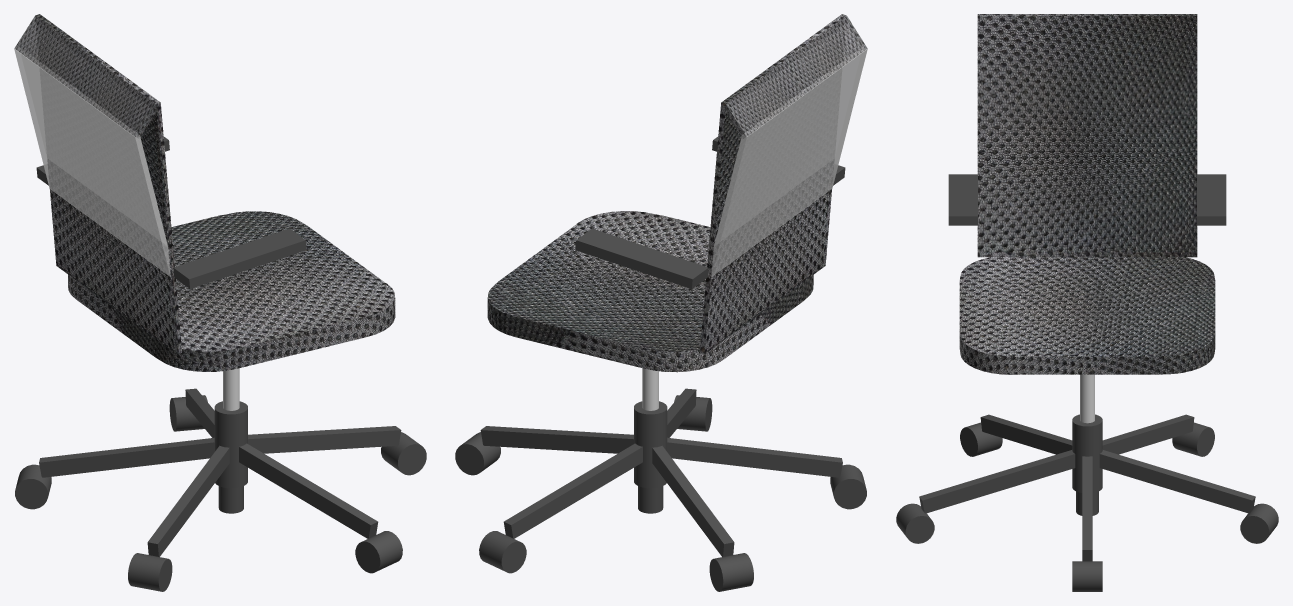
The model's file is office_chair.dae.
3 renders of one model, left to right at view 1: azimuth 30°, elevation 25°; view 2: azimuth 150°, elevation 25°; view 3: azimuth 270°, elevation 25°, orthographic. The views are drawn at different scales.
Visible parts, largest first — view 1: Seat_001, Backrest_001, Backrest_2_001, Backrest_1_001, Joint_3_001, Armrest_right_001, Joint_1_001, Joint_001, Joint_2_001, Middle_pole_001, Caster_1_001, Caster_2_001 (+6 smaller); view 2: Seat_001, Backrest_001, Backrest_2_001, Backrest_1_001, Joint_2_001, Armrest_left_001, Joint_4_001, Joint_001, Joint_3_001, Middle_pole_001, Caster_4_001, Caster_3_001 (+6 smaller); view 3: Backrest_001, Seat_001, Joint_1_001, Joint_4_001, Middle_pole_001, Joint_3_001, Joint_2_001, Armrest_left_001, Armrest_right_001, Joint_001, Caster_1_001, Caster_4_001 (+4 smaller).
Boxes of the visible parts, x1=… form: Seat_001: x1=68, y1=211, x2=395, y2=371; Backrest_001: x1=35, y1=14, x2=181, y2=354; Backrest_2_001: x1=14, y1=47, x2=173, y2=276; Backrest_1_001: x1=14, y1=15, x2=156, y2=138; Joint_3_001: x1=39, y1=437, x2=214, y2=477; Armrest_right_001: x1=173, y1=228, x2=306, y2=288; Joint_1_001: x1=239, y1=443, x2=378, y2=538; Joint_001: x1=248, y1=426, x2=401, y2=453; Joint_2_001: x1=147, y1=445, x2=229, y2=556; Middle_pole_001: x1=214, y1=401, x2=247, y2=488; Caster_1_001: x1=355, y1=531, x2=402, y2=573; Caster_2_001: x1=128, y1=553, x2=172, y2=591; Seat_001: x1=487, y1=211, x2=813, y2=372; Backrest_001: x1=700, y1=14, x2=846, y2=354; Backrest_2_001: x1=708, y1=47, x2=867, y2=276; Backrest_1_001: x1=723, y1=15, x2=867, y2=138; Joint_2_001: x1=667, y1=437, x2=842, y2=477; Armrest_left_001: x1=575, y1=228, x2=708, y2=288; Joint_4_001: x1=503, y1=443, x2=642, y2=538; Joint_001: x1=480, y1=426, x2=633, y2=453; Joint_3_001: x1=652, y1=445, x2=734, y2=556; Middle_pole_001: x1=634, y1=401, x2=667, y2=488; Caster_4_001: x1=479, y1=531, x2=526, y2=573; Caster_3_001: x1=709, y1=553, x2=753, y2=591; Backrest_001: x1=977, y1=14, x2=1197, y2=257; Seat_001: x1=959, y1=257, x2=1215, y2=374; Joint_1_001: x1=919, y1=450, x2=1075, y2=513; Joint_4_001: x1=1099, y1=450, x2=1255, y2=513; Middle_pole_001: x1=1072, y1=414, x2=1102, y2=492; Joint_3_001: x1=1102, y1=414, x2=1194, y2=454; Joint_2_001: x1=980, y1=414, x2=1072, y2=454; Armrest_left_001: x1=1197, y1=174, x2=1226, y2=225; Armrest_right_001: x1=948, y1=174, x2=977, y2=225; Joint_001: x1=1082, y1=456, x2=1092, y2=561; Caster_1_001: x1=896, y1=503, x2=934, y2=543; Caster_4_001: x1=1240, y1=503, x2=1278, y2=543.
Size of the model in its own units: 0.7121 by 0.7487 by 0.9504.
6 materials, 3 textured.
